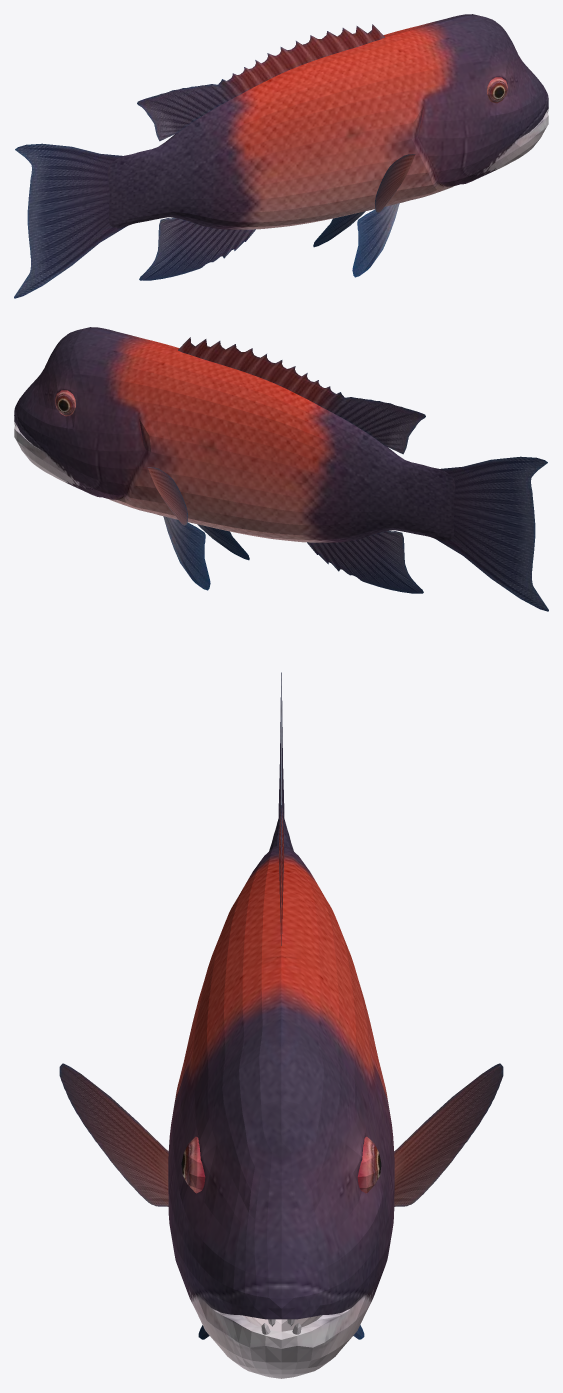
The model's file is sheephead.glb.
3 renders of one model, top to bottom at view 1: azimuth 30°, elevation 25°; view 2: azimuth 150°, elevation 25°; view 3: azimuth 270°, elevation 25°, orthographic. The views are drawn at different scales.
Visible parts, largest first — view 1: sheephead; view 2: sheephead; view 3: sheephead.
Boxes of the visible parts, x1,y1,x2,y2 form: sheephead: [14, 14, 548, 298]; sheephead: [14, 327, 548, 611]; sheephead: [59, 672, 503, 1378].
Bounding box in the file's own units: 1 × 0.419 × 0.3611.
Materials: 1 (1 with a texture image).
